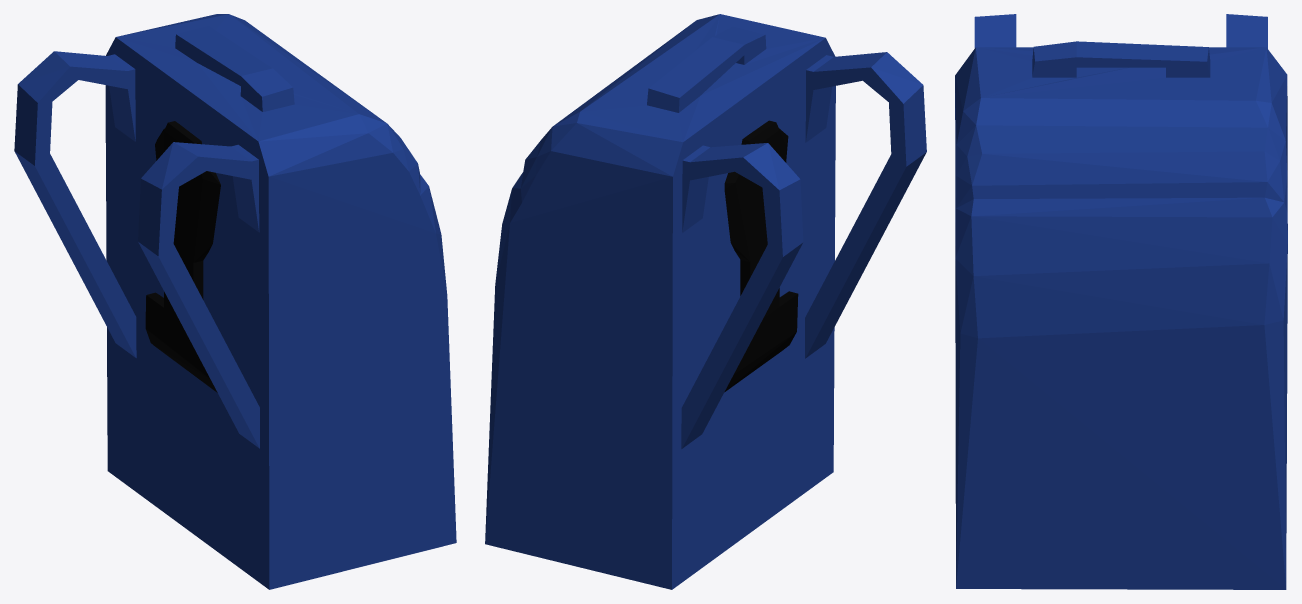
The model's file is Rucksack.fbx.
3 views of the same model, side by side, from view 1: azimuth 30°, elevation 25°; view 2: azimuth 150°, elevation 25°; view 3: azimuth 270°, elevation 25° (orthographic).
Parts seen in each view (by area): view 1: Rucksack_LOD0; view 2: Rucksack_LOD0; view 3: Rucksack_LOD0.
Boxes of the visible parts, x1,y1,x2,y2 form: Rucksack_LOD0: (14, 14, 456, 589); Rucksack_LOD0: (485, 14, 926, 589); Rucksack_LOD0: (955, 14, 1287, 589).
Size of what is drawn, in the model's own units: 0.3052 by 0.4671 by 0.2988.
